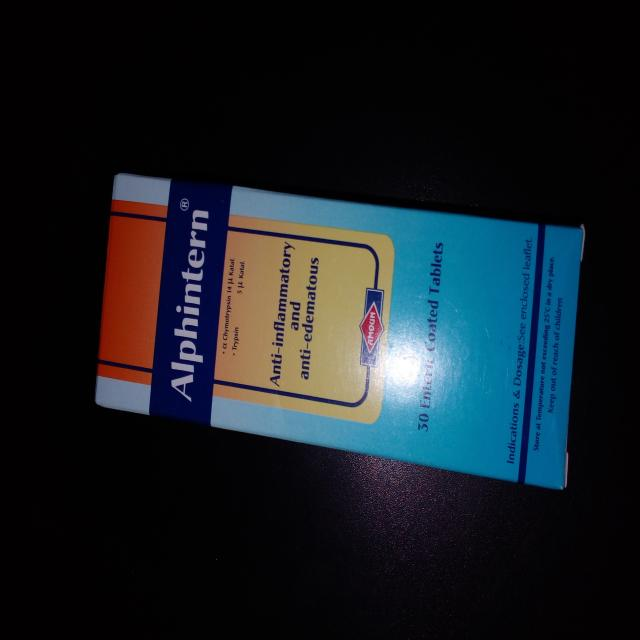Medicine: (93, 168, 590, 496)
